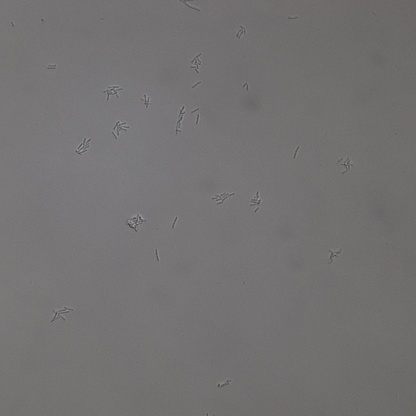R(colony): (112, 118, 132, 139), (172, 106, 186, 135), (50, 306, 72, 321), (102, 85, 123, 100), (212, 191, 233, 205), (75, 138, 91, 156), (337, 156, 353, 174), (249, 191, 262, 213), (189, 53, 202, 74), (328, 246, 343, 264), (140, 92, 153, 109)
